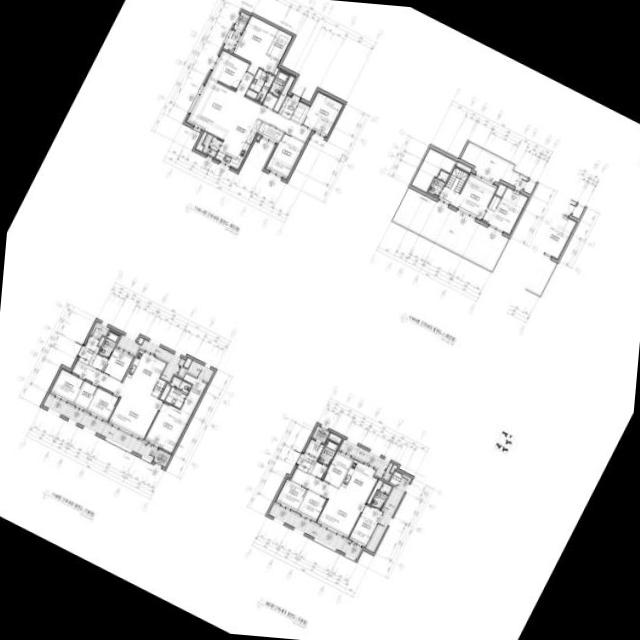background: (0, 0, 640, 640)
space_balconi: (42, 394, 157, 460), (268, 503, 361, 558), (365, 474, 410, 552), (116, 334, 185, 382), (339, 439, 392, 481), (187, 360, 213, 381), (201, 133, 221, 156), (222, 29, 239, 51), (90, 321, 109, 338)
space_bedroom: (232, 15, 278, 75), (144, 402, 190, 453), (481, 187, 527, 234), (301, 91, 343, 136), (265, 132, 304, 178), (209, 50, 248, 89), (348, 504, 382, 546), (49, 368, 83, 403), (86, 387, 117, 421), (275, 479, 306, 511), (102, 347, 132, 380), (296, 489, 326, 521)
space_dressroom: (179, 372, 206, 415), (266, 29, 291, 60)
space_front: (77, 335, 99, 365), (278, 95, 298, 119), (296, 452, 316, 473)
space_kitchen: (214, 109, 261, 168), (122, 349, 165, 395), (338, 459, 376, 502)
space_living_room: (186, 72, 311, 142), (71, 360, 161, 439), (290, 468, 364, 537), (437, 173, 496, 219)
space_other: (392, 187, 507, 269), (460, 143, 526, 189), (410, 147, 455, 192), (322, 450, 352, 487), (272, 75, 294, 111), (72, 381, 96, 410), (444, 166, 468, 193), (256, 121, 282, 142), (290, 100, 309, 123), (366, 479, 382, 503), (304, 439, 323, 457), (91, 354, 107, 371), (261, 92, 277, 109), (151, 378, 165, 397), (310, 462, 326, 478), (195, 131, 206, 150), (159, 382, 170, 400), (487, 195, 500, 210), (455, 160, 471, 172), (388, 471, 401, 485), (494, 182, 506, 196), (523, 180, 535, 194), (327, 432, 340, 443), (183, 357, 191, 368), (97, 336, 104, 346), (389, 464, 396, 472), (273, 67, 278, 75), (137, 337, 143, 343), (255, 135, 259, 139)
space_outdoor_room: (232, 11, 249, 32), (152, 449, 170, 467), (311, 425, 329, 442)
space_toilet: (245, 68, 274, 102), (164, 376, 191, 408), (369, 482, 391, 509), (97, 330, 119, 357), (316, 439, 338, 465), (267, 70, 288, 96), (427, 170, 448, 196)
